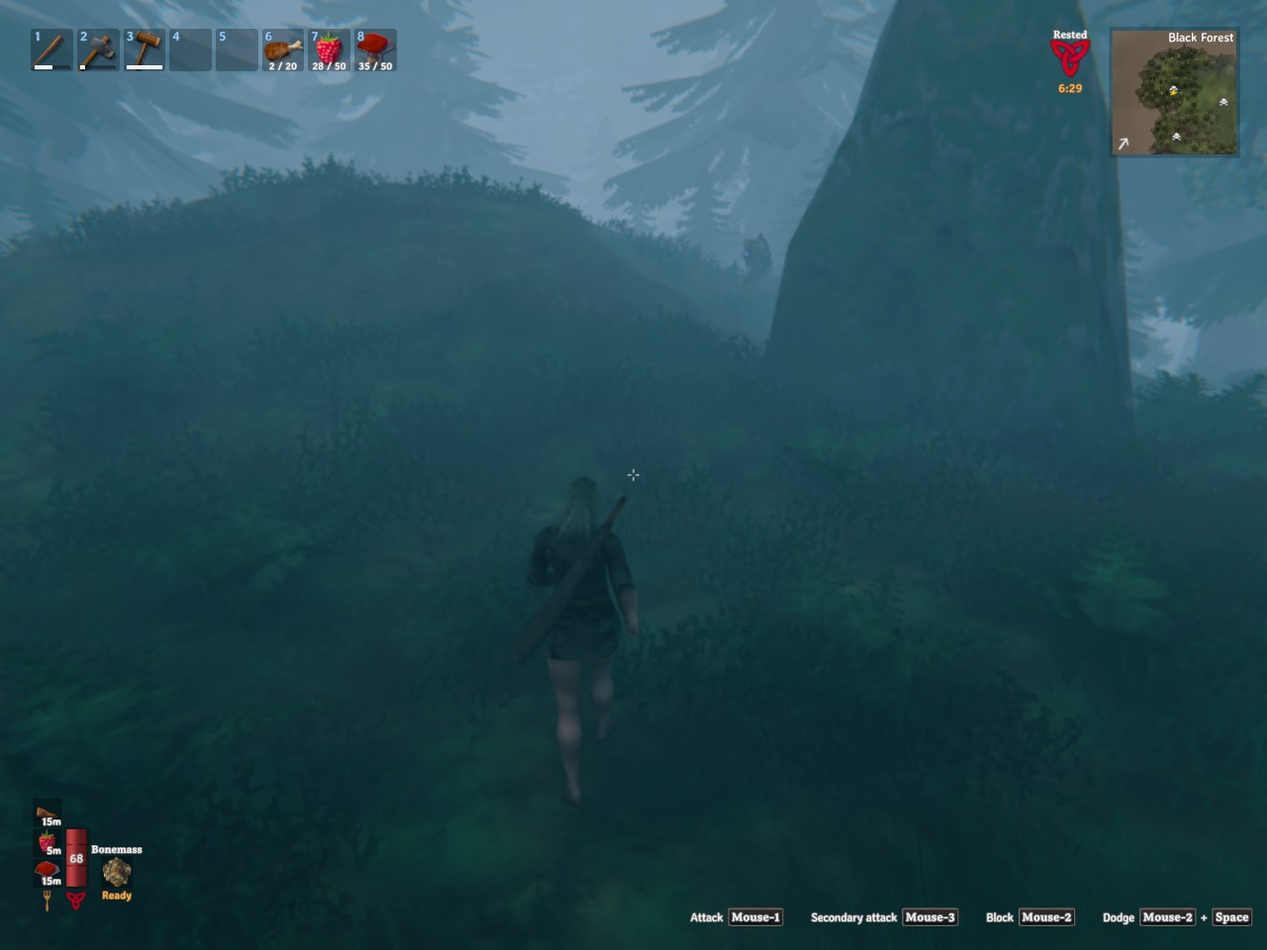Greydwarf: (742, 234, 772, 286)
